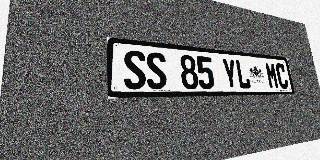5: (196, 56, 215, 89)
8: (179, 54, 199, 89)
C: (275, 63, 289, 89)
L: (235, 59, 251, 89)
M: (265, 62, 280, 89)
S: (123, 49, 147, 89), (145, 51, 167, 89)
Y: (221, 58, 239, 89)
